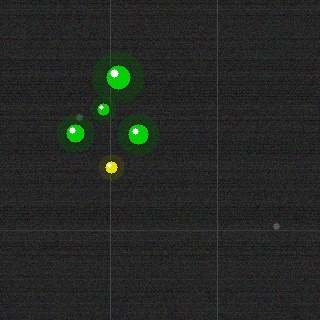green_normal: (104, 63, 132, 91), (126, 122, 150, 146), (64, 122, 86, 144), (95, 101, 111, 117)
yellow_warning: (103, 159, 119, 175)
